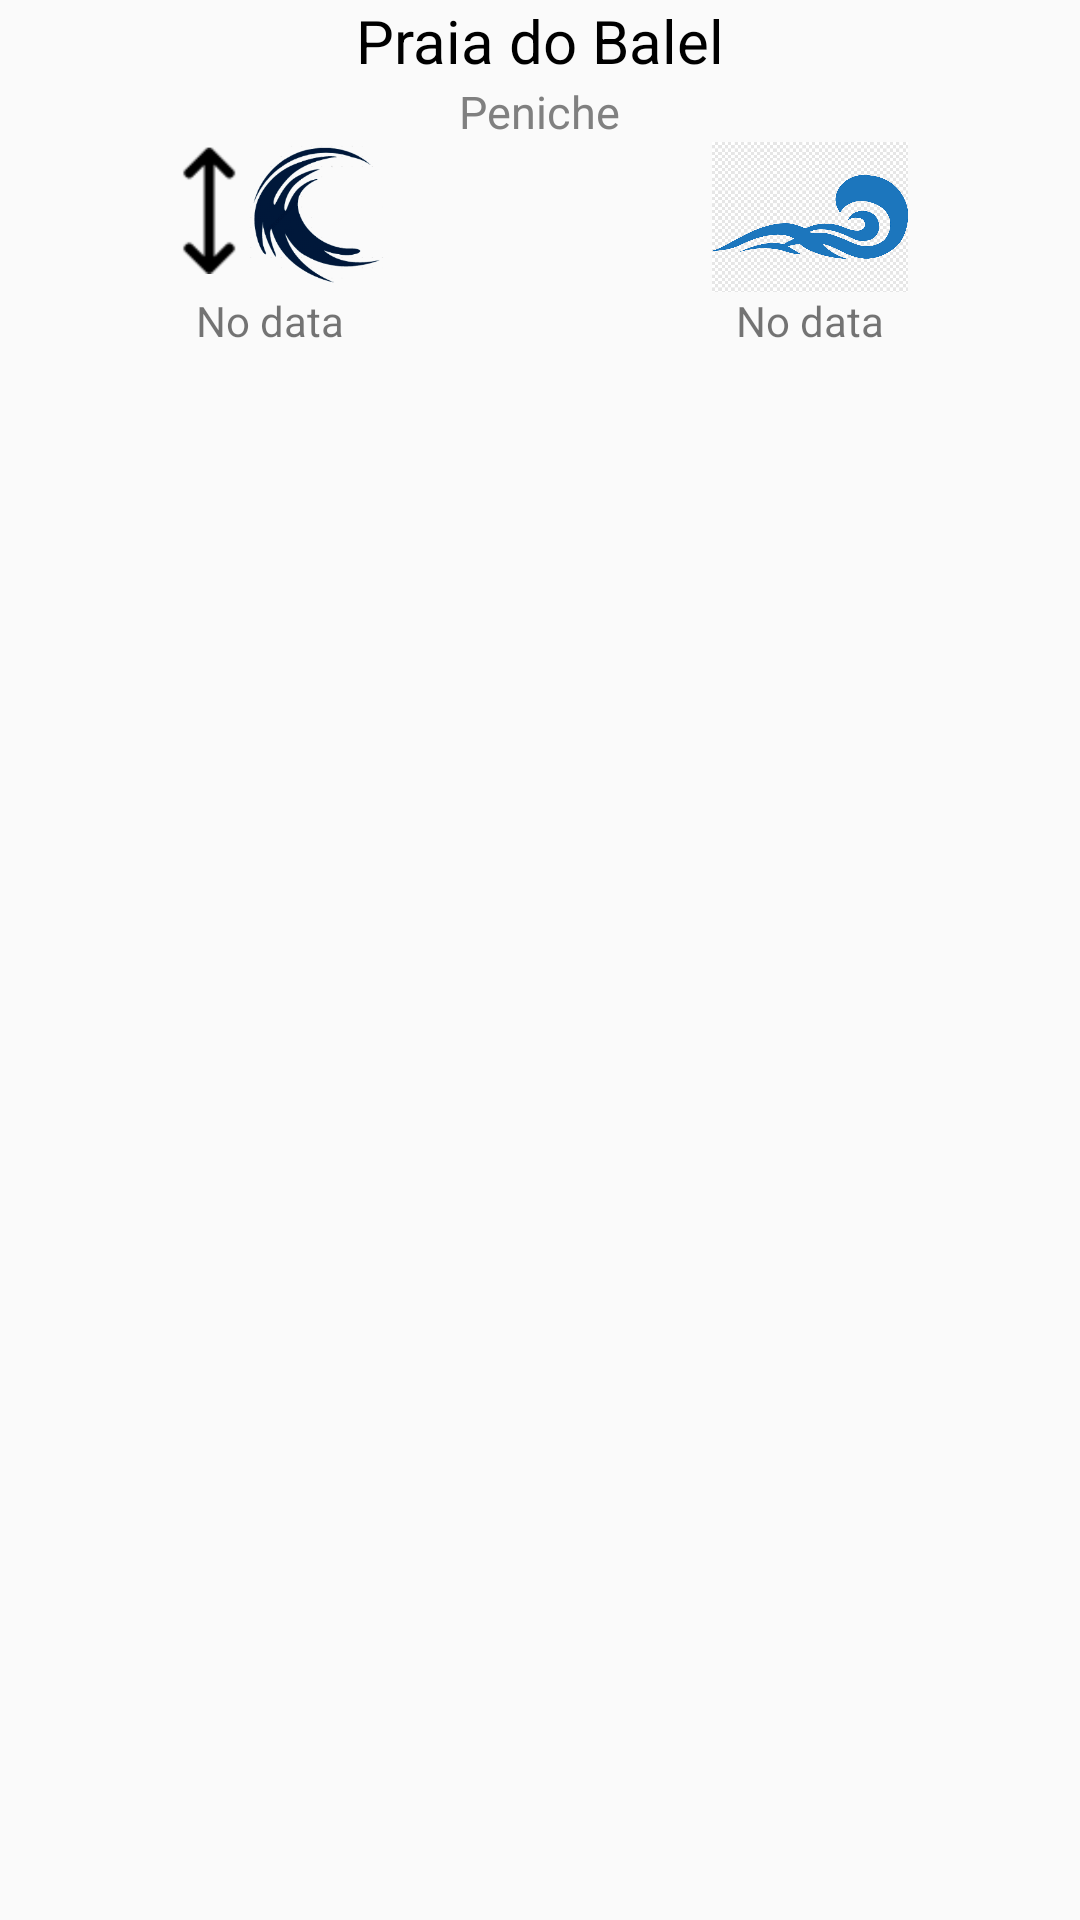

Where icons sit on this 1080w x 1920h app screen, as (x1, y1, x2, y2):
height wave: (183, 147, 379, 283)
